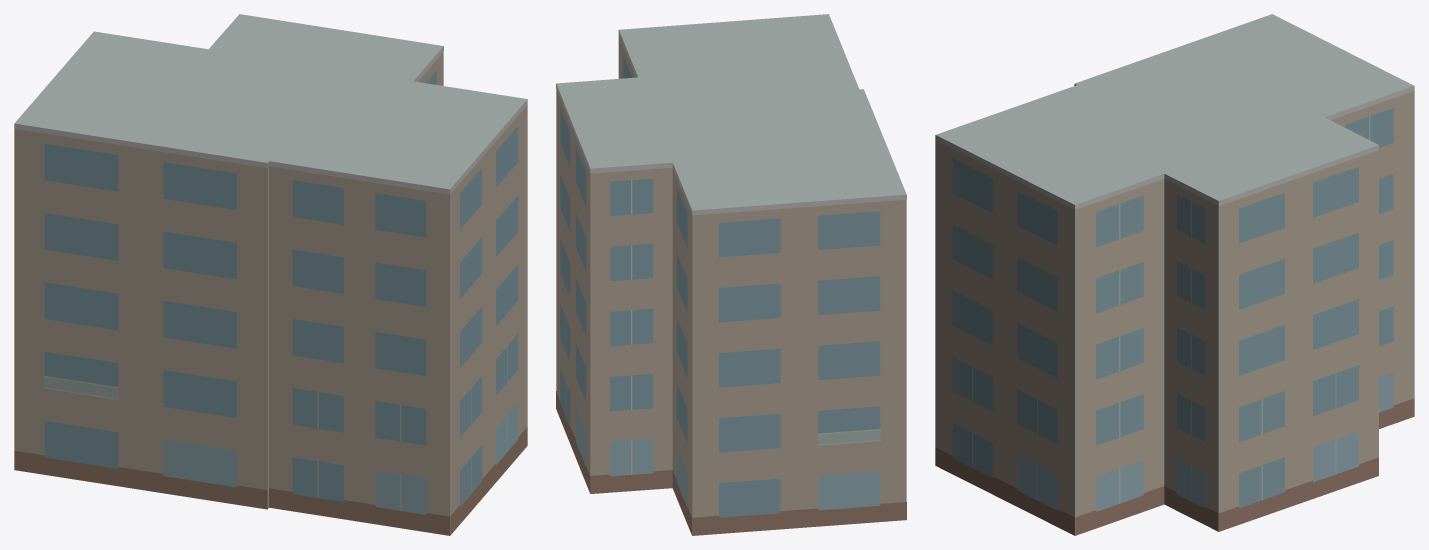
The model's file is survey-upis-32535303.glb.
3 views of the same model, side by side, from view 1: azimuth 30°, elevation 25°; view 2: azimuth 150°, elevation 25°; view 3: azimuth 270°, elevation 25° (orthographic). The views are drawn at different scales.
Visible parts, largest first — view 1: survey-upis-32535303.tmp; view 2: survey-upis-32535303.tmp; view 3: survey-upis-32535303.tmp.
Part boxes in pixels (left/top/right/bottom): survey-upis-32535303.tmp: left=14, top=14, right=527, bottom=535; survey-upis-32535303.tmp: left=556, top=14, right=906, bottom=535; survey-upis-32535303.tmp: left=935, top=14, right=1414, bottom=535.
Size of the model in its own units: 19.75 by 15.94 by 20.93.
